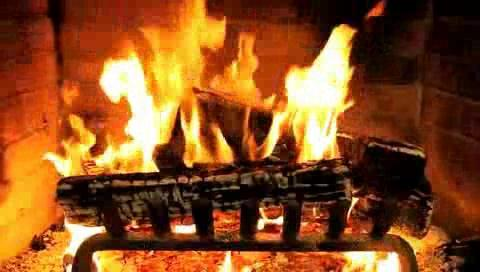fire: (72, 5, 365, 189)
